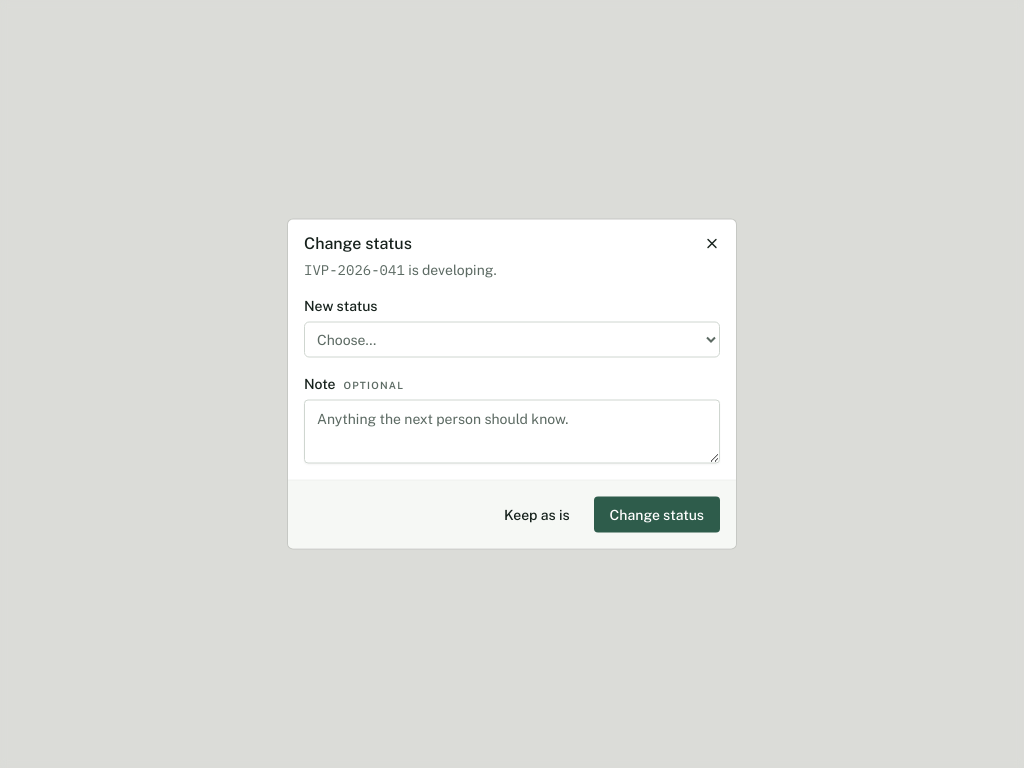
Test: TransitionDialog › shows the server's refusal in place instead of closing
Select "Clearance" in the dropdown labelled "New status" at (512, 340), box 304,322 -> 720,358
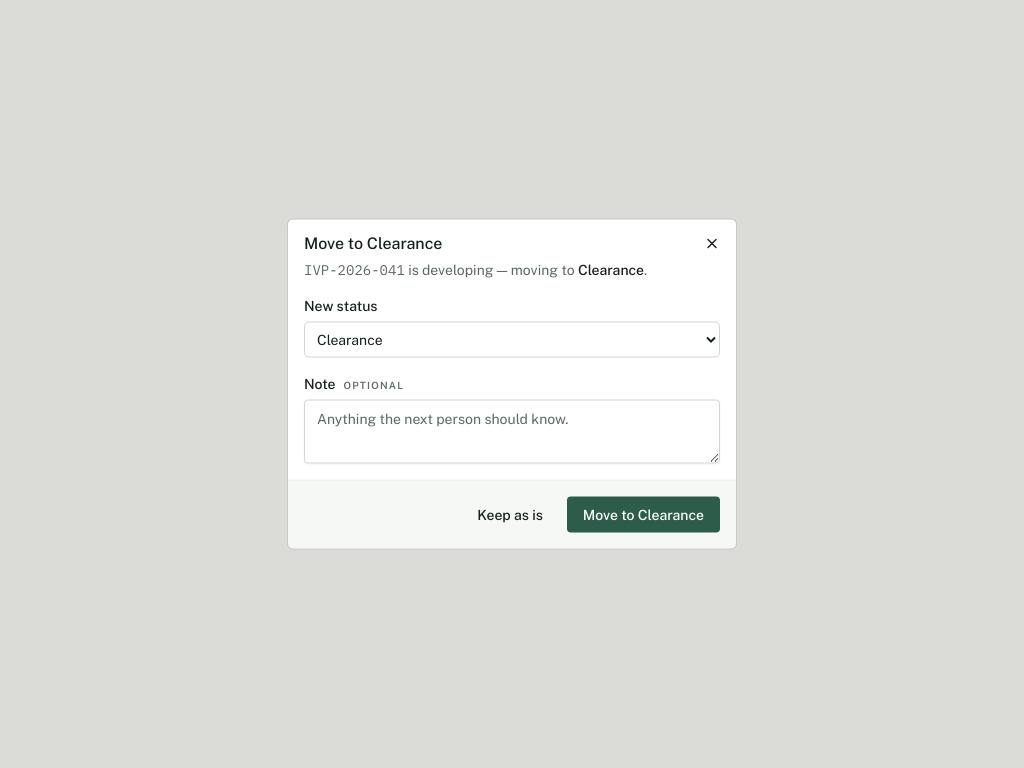
Click the button "Move to Clearance" at (643, 514), box 567,496 -> 720,532
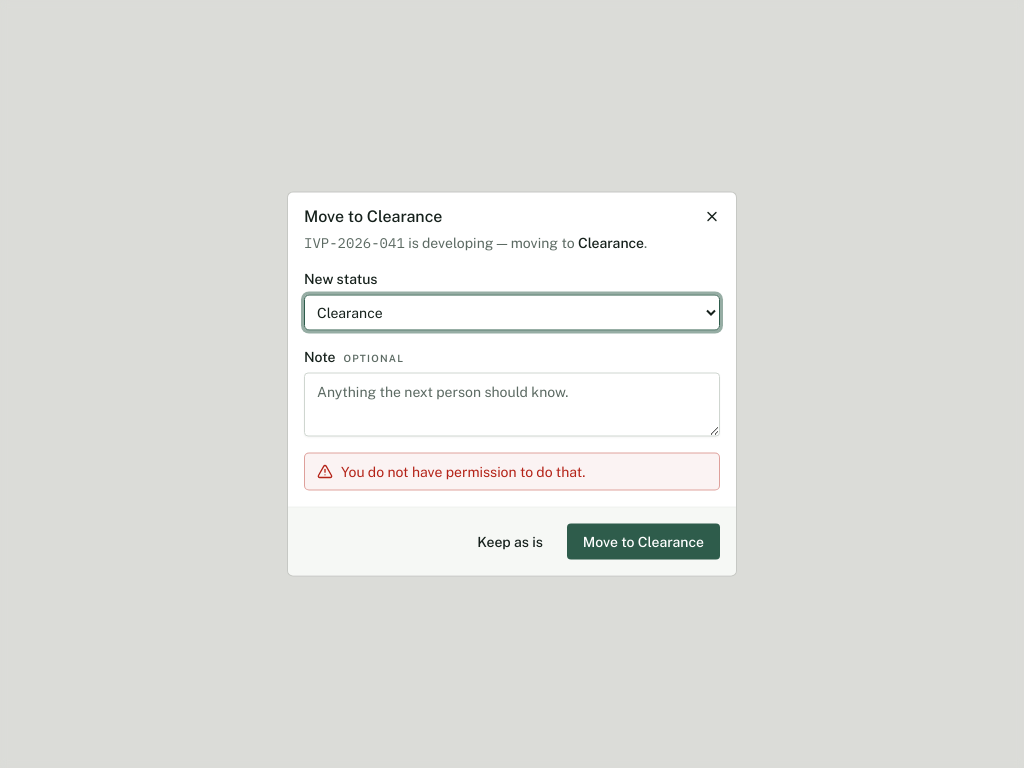
Now the message reads "You do not have permission to do that.", box 341,464 -> 585,480
